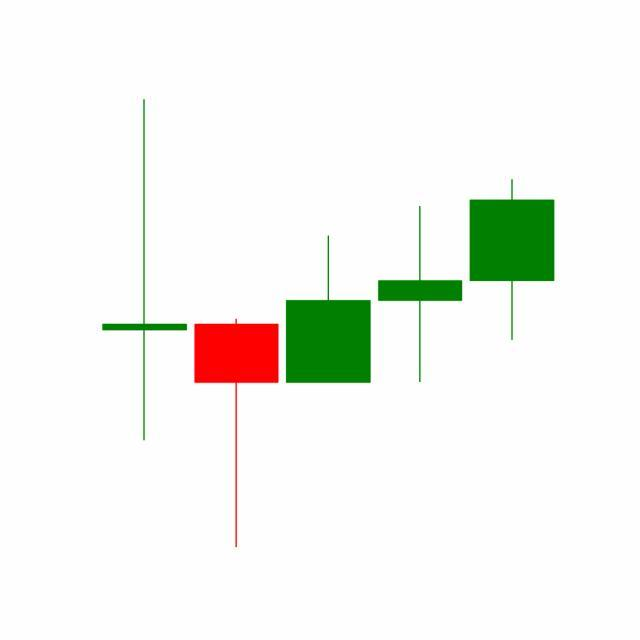Spinning Top: (374, 205, 468, 385)
